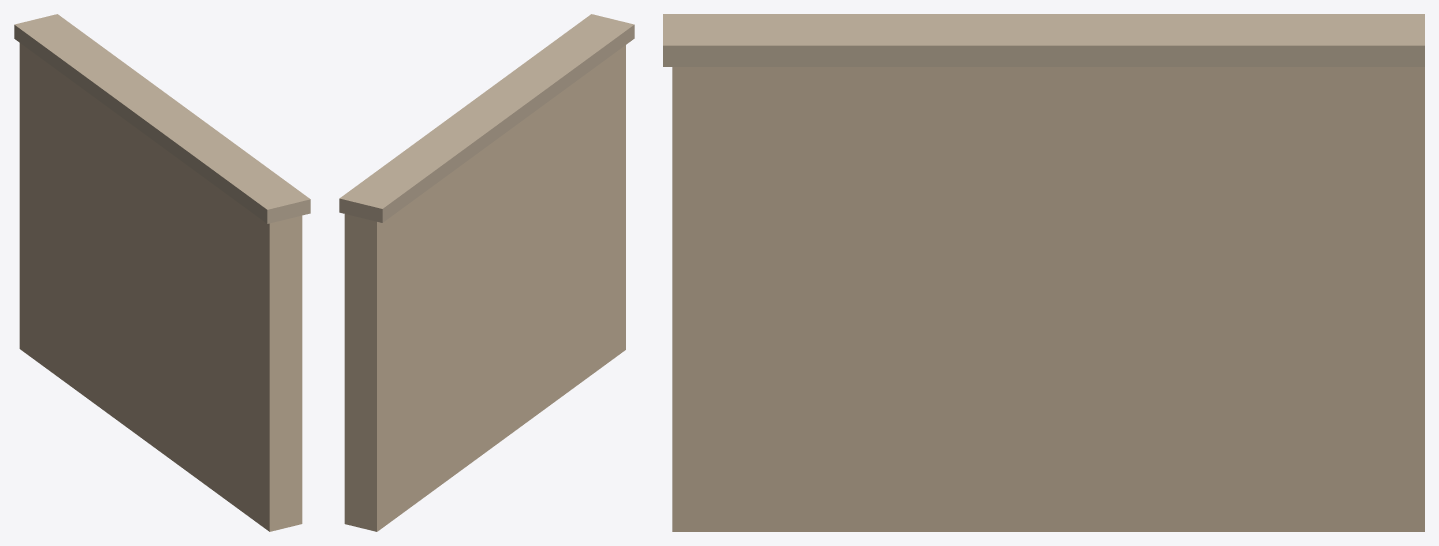
File: city_balcony_end.glb
3 views of the same model, side by side, from view 1: azimuth 30°, elevation 25°; view 2: azimuth 150°, elevation 25°; view 3: azimuth 270°, elevation 25° (orthographic). The views are drawn at different scales.
Parts seen in each view (by area): view 1: CityBalconyEnd_Panel, CityBalconyEnd_Cap; view 2: CityBalconyEnd_Panel, CityBalconyEnd_Cap; view 3: CityBalconyEnd_Panel, CityBalconyEnd_Cap.
Boxes of the visible parts, box(x1,y1,x2,y2) form: CityBalconyEnd_Panel: box(19, 43, 302, 531); CityBalconyEnd_Cap: box(14, 14, 310, 223); CityBalconyEnd_Panel: box(344, 45, 625, 531); CityBalconyEnd_Cap: box(339, 14, 634, 222); CityBalconyEnd_Panel: box(672, 67, 1424, 531); CityBalconyEnd_Cap: box(663, 14, 1424, 66).
Bounding box in the file's own units: 0.16 × 1.15 × 1.62.
